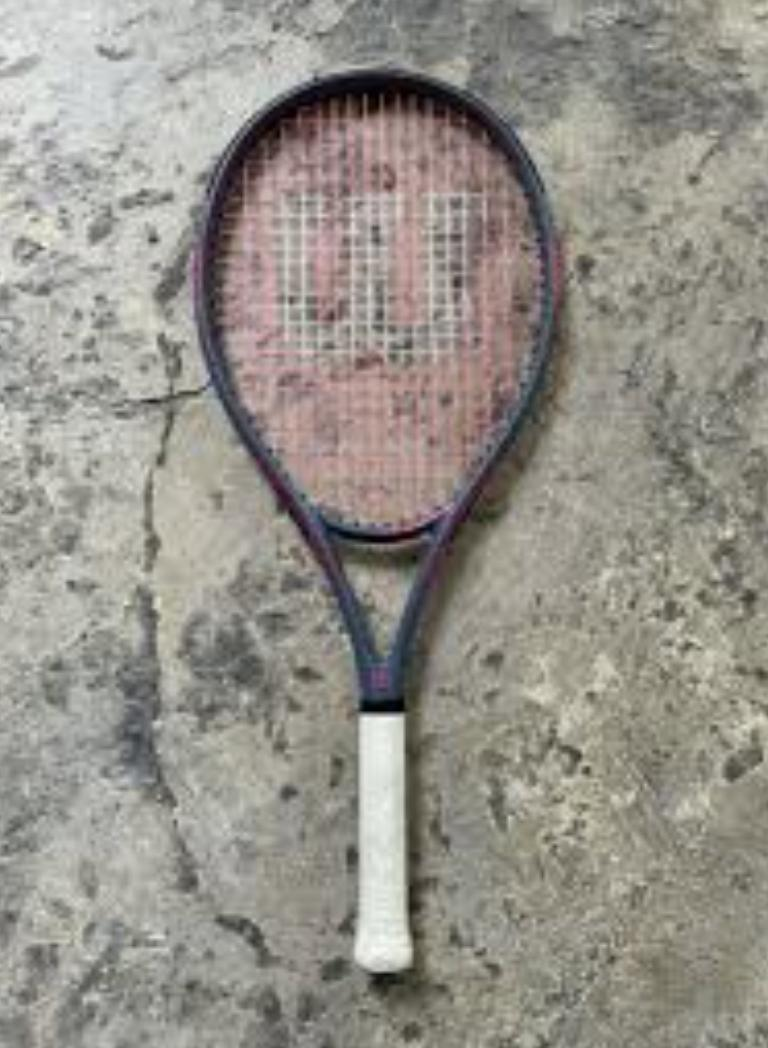Tennis-Racket: (194, 70, 560, 972)
